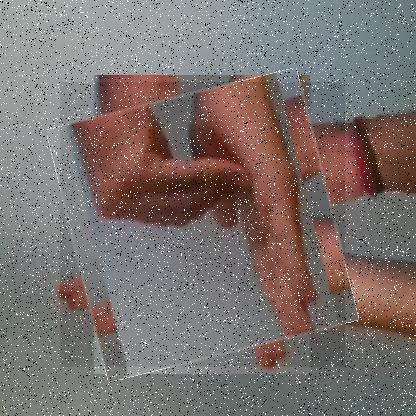Z: (59, 82, 345, 368)
